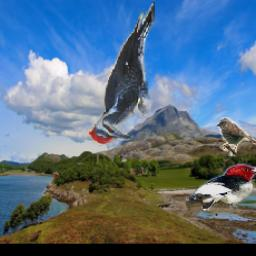Sparrow: (217, 117, 256, 156)
Woodpecker: (88, 0, 156, 145), (187, 163, 256, 211)
